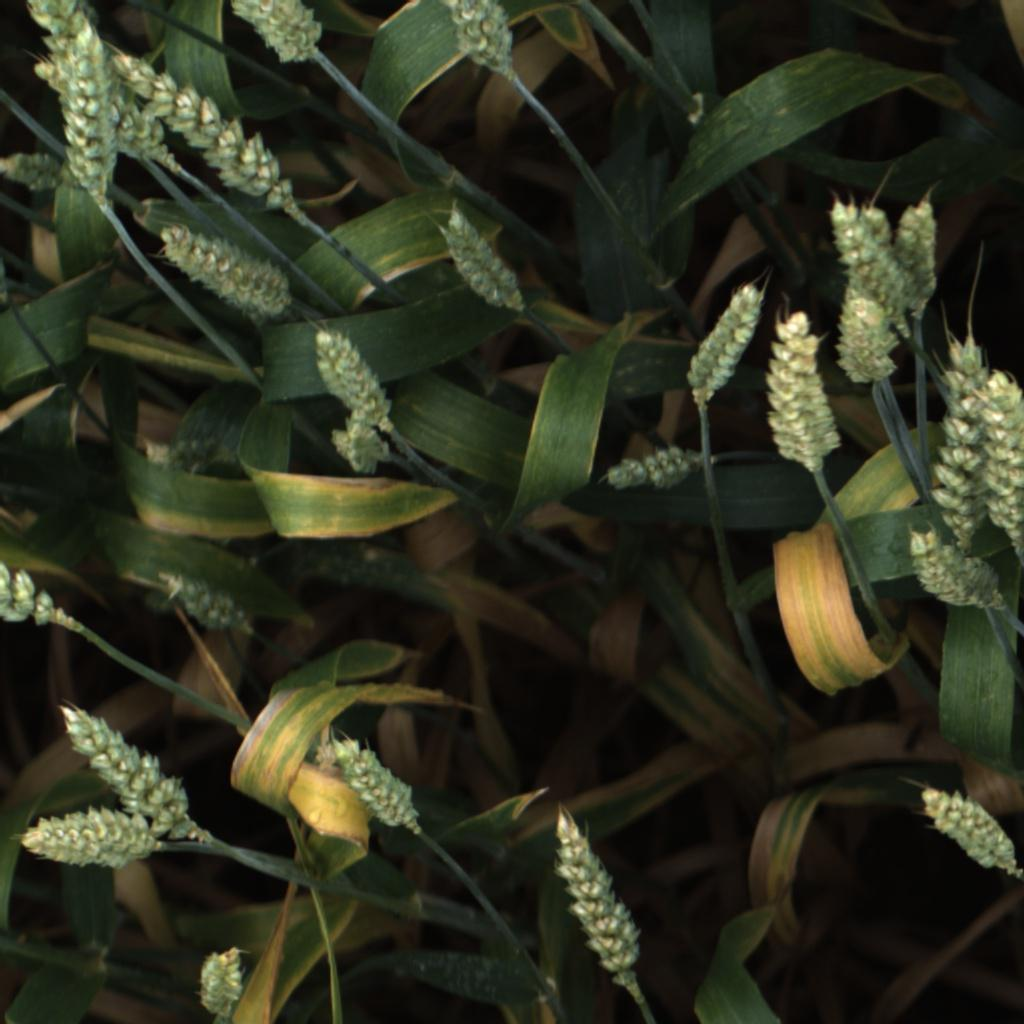0-0: (111, 47, 303, 222), (55, 698, 212, 840), (550, 804, 651, 977), (28, 59, 181, 168), (926, 332, 998, 533), (158, 223, 295, 322), (760, 310, 843, 471), (432, 193, 530, 326), (821, 193, 910, 335), (910, 781, 1024, 881), (57, 18, 119, 198), (311, 324, 398, 444), (21, 808, 171, 877), (680, 279, 760, 407), (907, 528, 1010, 618), (329, 729, 418, 832), (978, 362, 1023, 559), (827, 278, 897, 391), (889, 187, 945, 322), (234, 1, 323, 75), (165, 559, 251, 635), (592, 438, 694, 500), (441, 0, 519, 81), (0, 559, 76, 637), (841, 203, 892, 297), (198, 941, 253, 1024), (139, 433, 237, 478), (329, 416, 393, 477), (23, 0, 104, 45), (0, 147, 65, 192)
